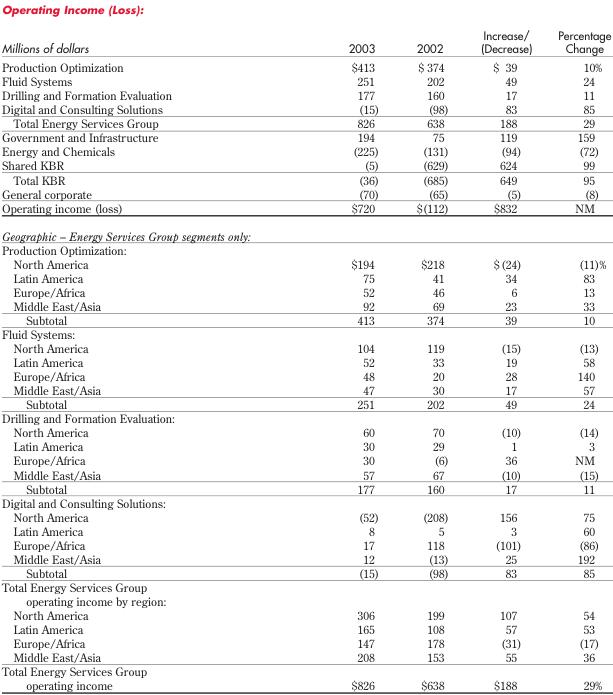table: (0, 1, 610, 692)
table column: (0, 1, 259, 692), (259, 1, 397, 692), (464, 1, 544, 692), (397, 1, 464, 692), (544, 1, 610, 692)
table column header: (0, 1, 610, 57)
table projected row header: (0, 221, 610, 242), (0, 410, 610, 425), (0, 242, 610, 256), (0, 326, 610, 340), (0, 495, 610, 509), (0, 579, 610, 593), (0, 593, 610, 607), (0, 663, 610, 677)
table row: (0, 1, 610, 57), (0, 200, 610, 221), (0, 221, 610, 242), (0, 57, 610, 73), (0, 129, 610, 144), (0, 410, 610, 425), (0, 677, 610, 692), (0, 73, 610, 87), (0, 87, 610, 101), (0, 101, 610, 115), (0, 115, 610, 129), (0, 144, 610, 158), (0, 158, 610, 172), (0, 172, 610, 186), (0, 186, 610, 200), (0, 242, 610, 256), (0, 256, 610, 270), (0, 270, 610, 284), (0, 284, 610, 298), (0, 298, 610, 312), (0, 312, 610, 326), (0, 326, 610, 340), (0, 340, 610, 354), (0, 354, 610, 368), (0, 368, 610, 382), (0, 382, 610, 396), (0, 396, 610, 410), (0, 425, 610, 439), (0, 439, 610, 453), (0, 453, 610, 467), (0, 467, 610, 481), (0, 481, 610, 495), (0, 495, 610, 509), (0, 509, 610, 523), (0, 523, 610, 537), (0, 537, 610, 551), (0, 551, 610, 565), (0, 565, 610, 579), (0, 579, 610, 593), (0, 593, 610, 607), (0, 607, 610, 621), (0, 621, 610, 635), (0, 635, 610, 649), (0, 649, 610, 663), (0, 663, 610, 677)
